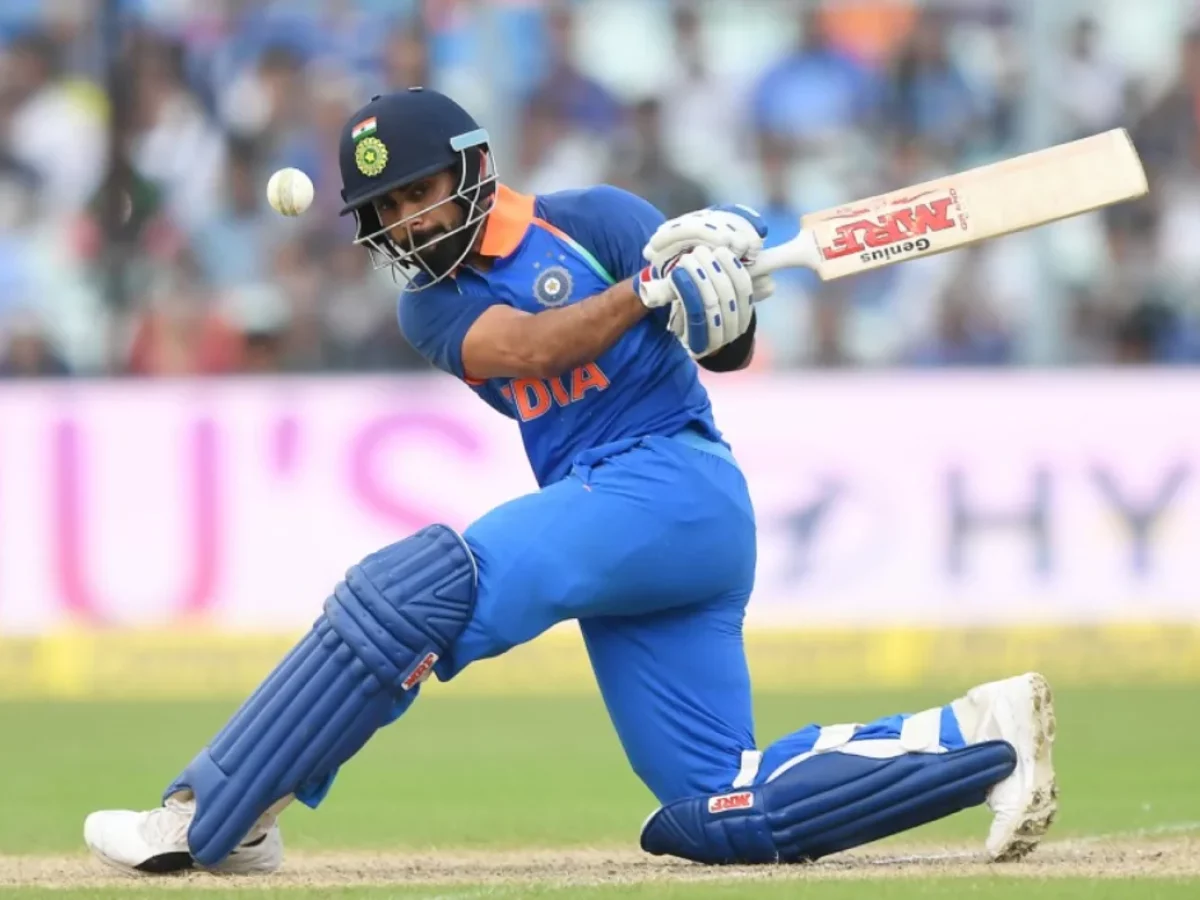Sweepshot: (53, 30, 1157, 887)
